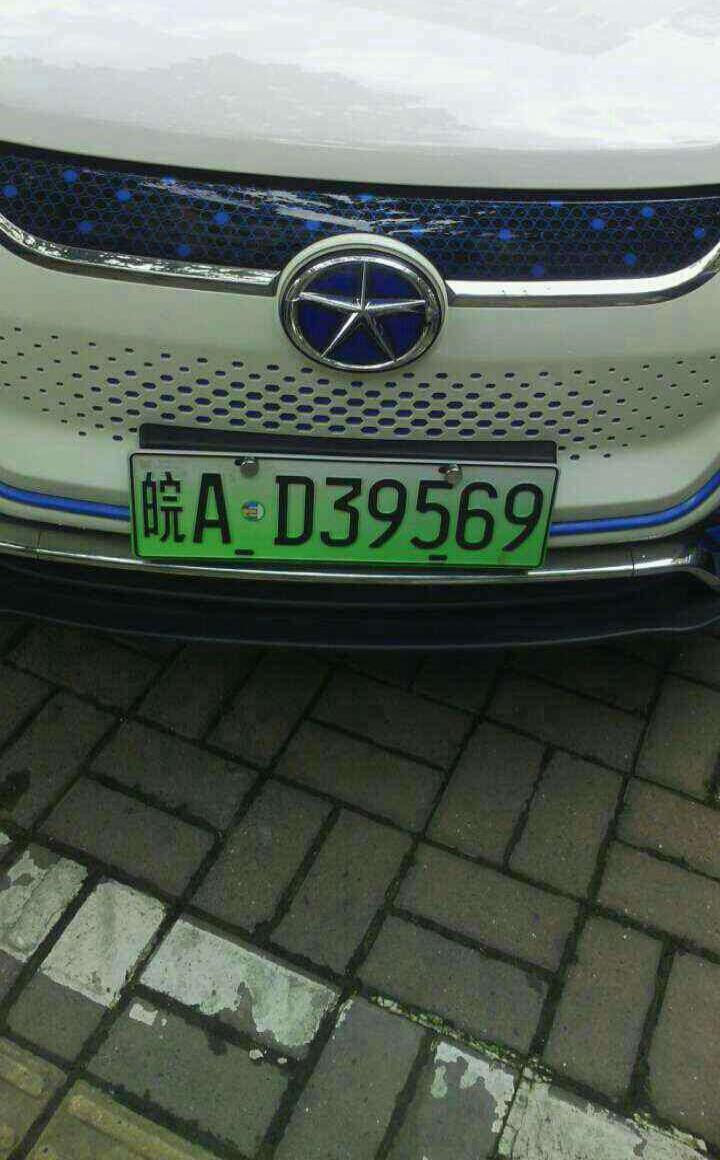car: (132, 450, 563, 578)
